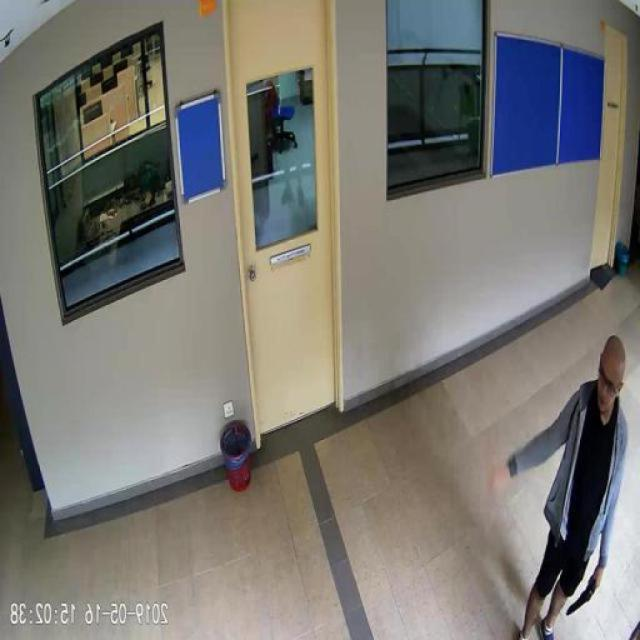pistol: (570, 572, 600, 612)
